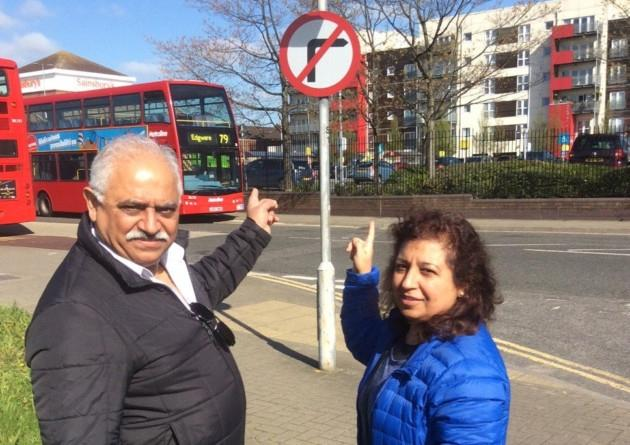no_right_turn: (277, 9, 360, 96)
